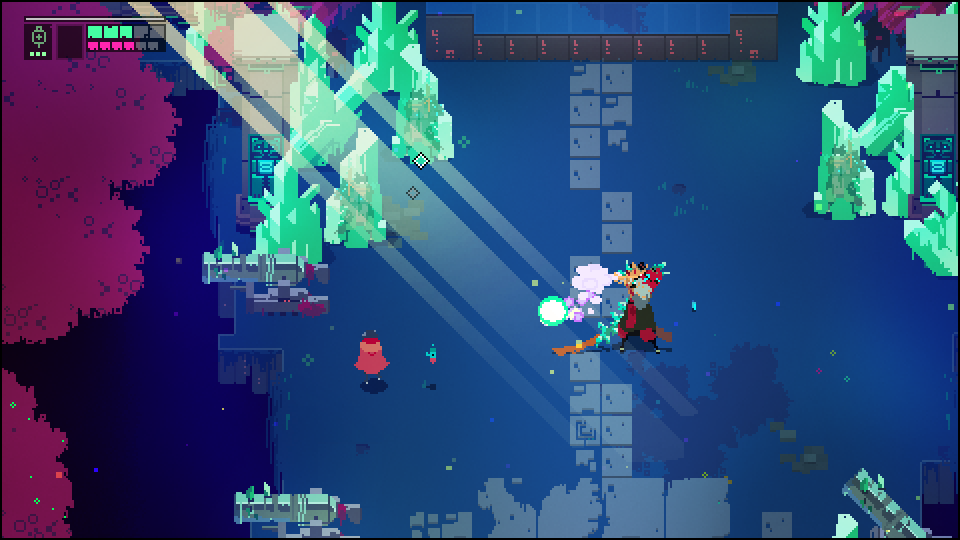hanged_man: (559, 257, 673, 358)
hanged_shot: (538, 295, 568, 328)
player: (353, 326, 392, 392)
